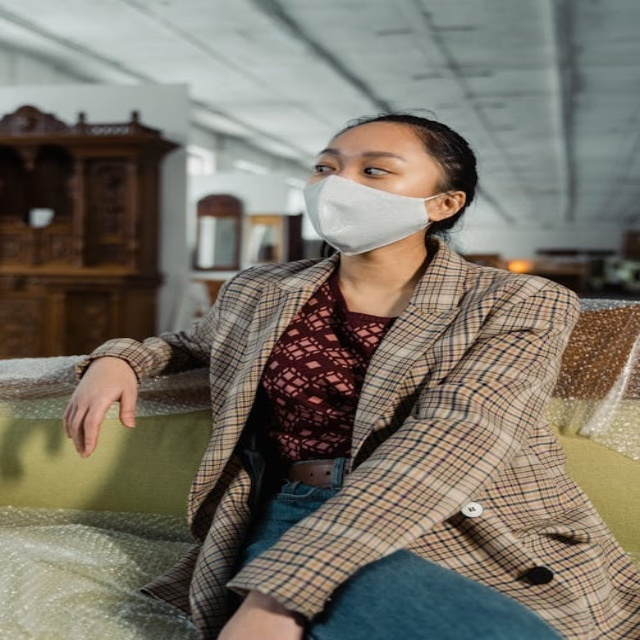Mascara: (303, 174, 447, 255)
Sin_gafas: (303, 148, 421, 176)
Sin_guantes: (61, 359, 151, 457)
